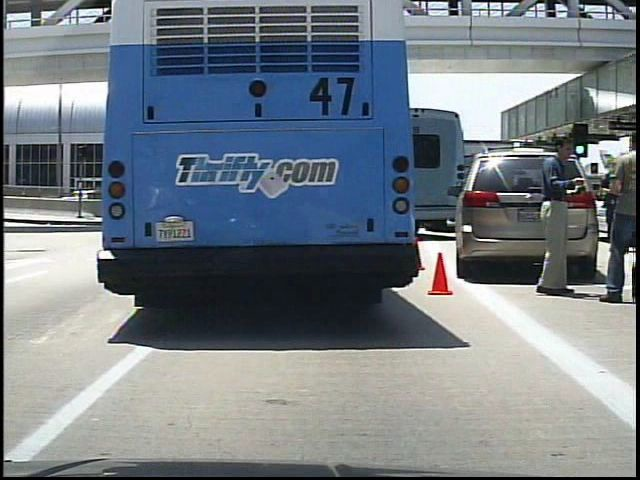person: (534, 126, 599, 305), (596, 124, 638, 299)
